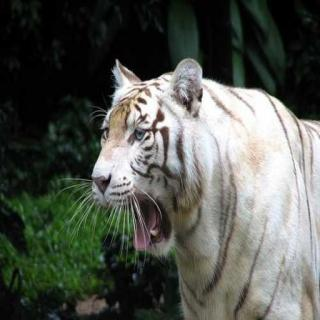Tiger: (83, 51, 320, 320)
